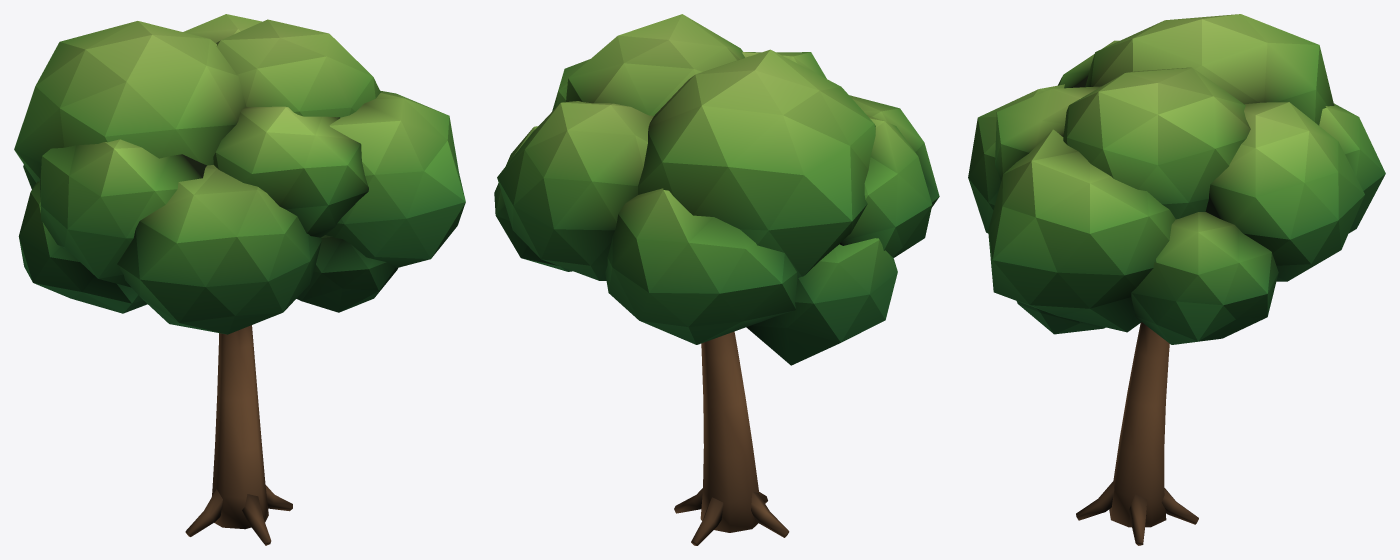
Rendered from tree-standing-c.glb.
3 renders of one model, left to right at view 1: azimuth 30°, elevation 25°; view 2: azimuth 150°, elevation 25°; view 3: azimuth 270°, elevation 25°, orthographic. The views are drawn at different scales.
Visible parts, largest first — view 1: 1_leaves.004, 0_trunk.004; view 2: 1_leaves.004, 0_trunk.004; view 3: 1_leaves.004, 0_trunk.004.
Boxes of the visible parts, bbox=[...] form: 1_leaves.004: bbox=[14, 14, 465, 334]; 0_trunk.004: bbox=[185, 325, 292, 545]; 1_leaves.004: bbox=[494, 14, 939, 365]; 0_trunk.004: bbox=[674, 331, 789, 545]; 1_leaves.004: bbox=[968, 14, 1385, 344]; 0_trunk.004: bbox=[1076, 322, 1198, 545].
Bounding box in the file's own units: 5.09 × 6.28 × 5.
